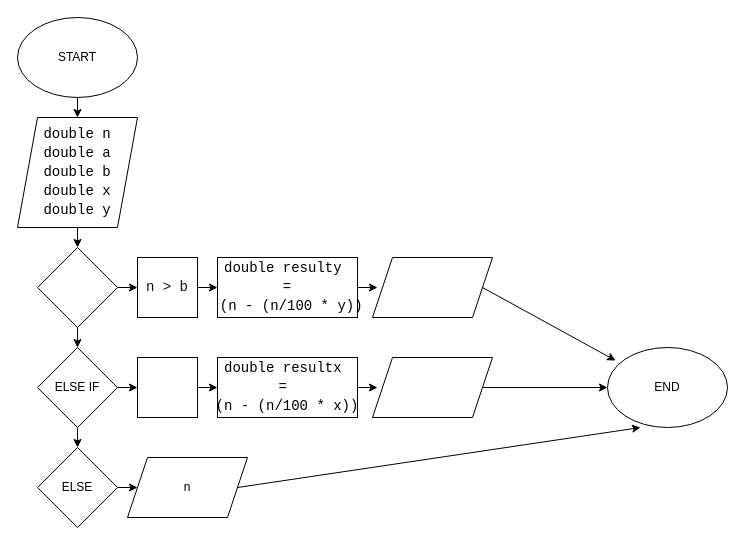
Image size: 745x545. Some labels were removed from this diagram. Each missing label, with the centre of its shape:
"IF" belongs at point (77, 287).
"n > a" belongs at point (167, 387).
"resultx" belongs at point (432, 387).
"resulty" belongs at point (432, 287).
